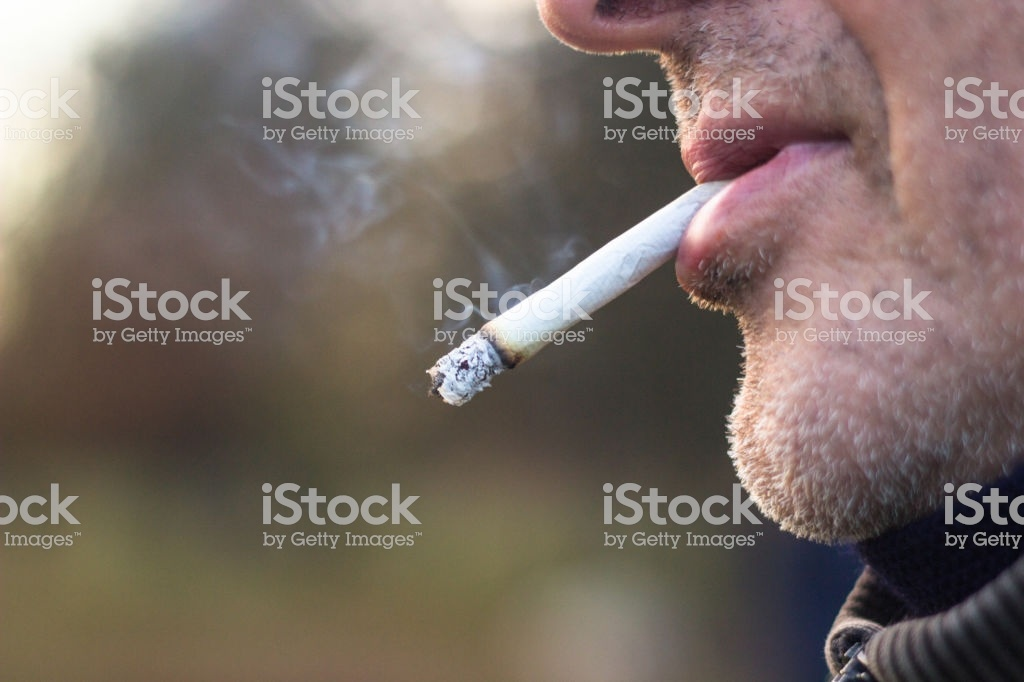sigaretta: (417, 185, 763, 409)
